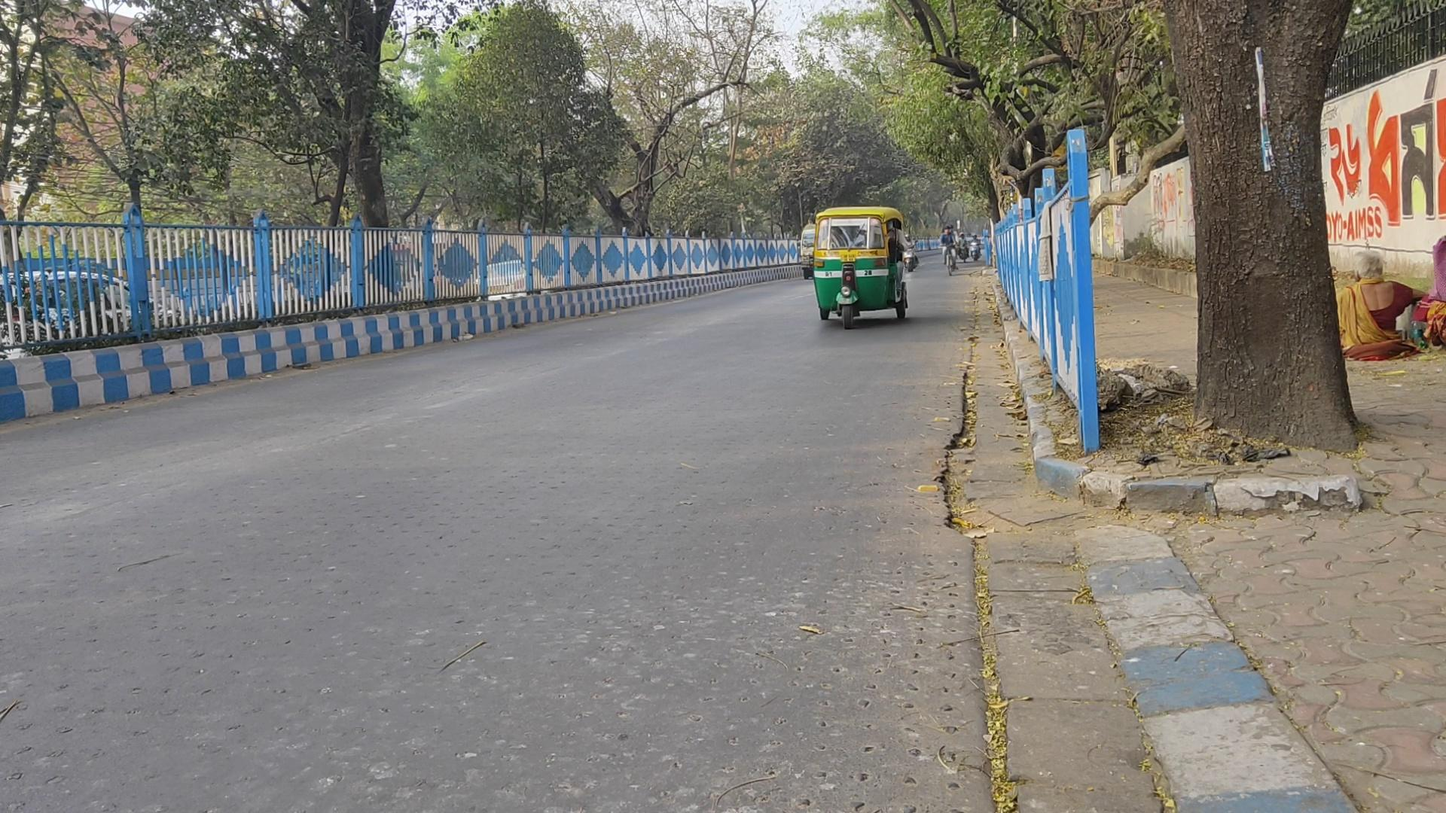Auto: (813, 206, 909, 330)
bike: (939, 226, 961, 275), (902, 233, 920, 273), (958, 233, 969, 263), (970, 233, 981, 261)
